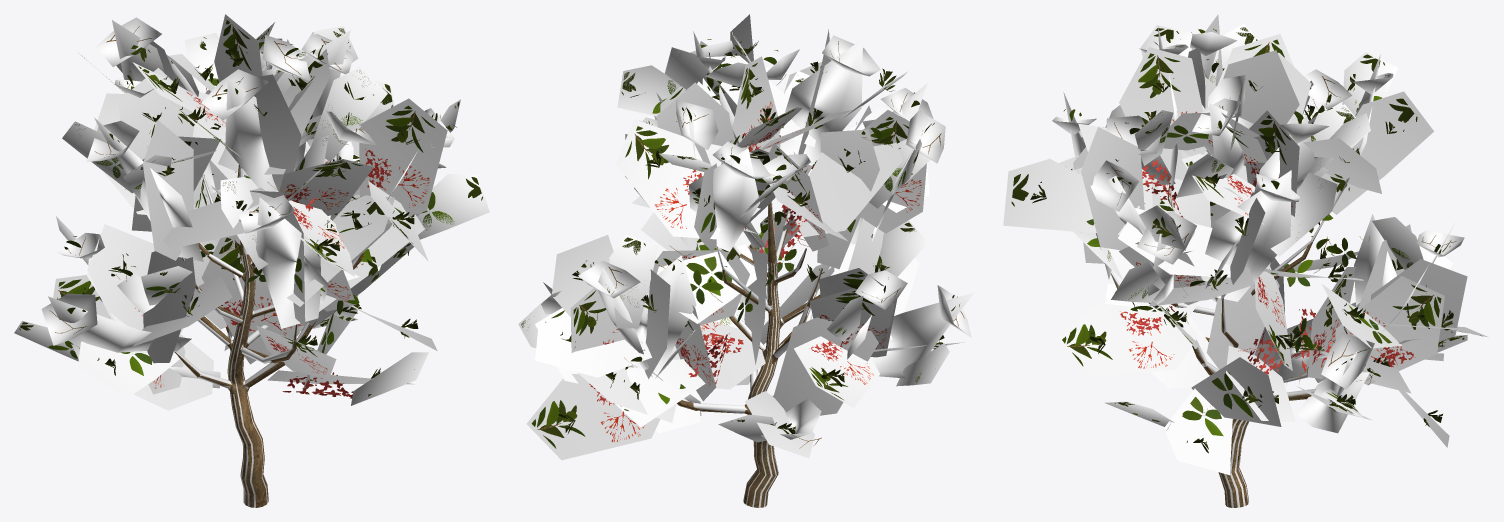
The model's file is geranium1.glb.
3 views of the same model, side by side, from view 1: azimuth 30°, elevation 25°; view 2: azimuth 150°, elevation 25°; view 3: azimuth 270°, elevation 25° (orthographic). The views are drawn at different scales.
Visible parts, largest first — view 1: geranium1; view 2: geranium1; view 3: geranium1.
Boxes of the visible parts, box(x1,y1,x2,y2) form: geranium1: box(14, 14, 489, 507); geranium1: box(518, 14, 974, 507); geranium1: box(1003, 14, 1488, 507).
Bounding box in the file's own units: 1.47 × 1.65 × 1.61.
Materials: 3 (2 with a texture image).
